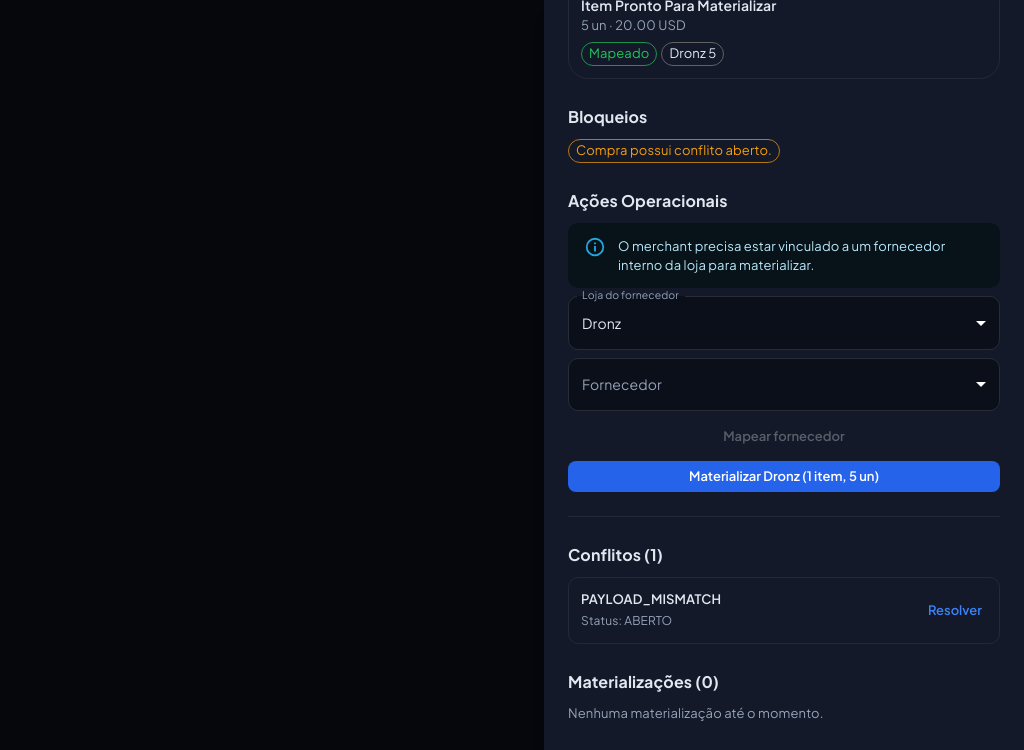
Test: Regressão — mapping merchant/fornecedor no drawer › salva o vínculo com loja, fornecedor, idempotência e invalida a compra
(page scrolled)
Click the dropdown named "Fornecedor".
click(784, 384)  # box [568, 358, 1000, 411]
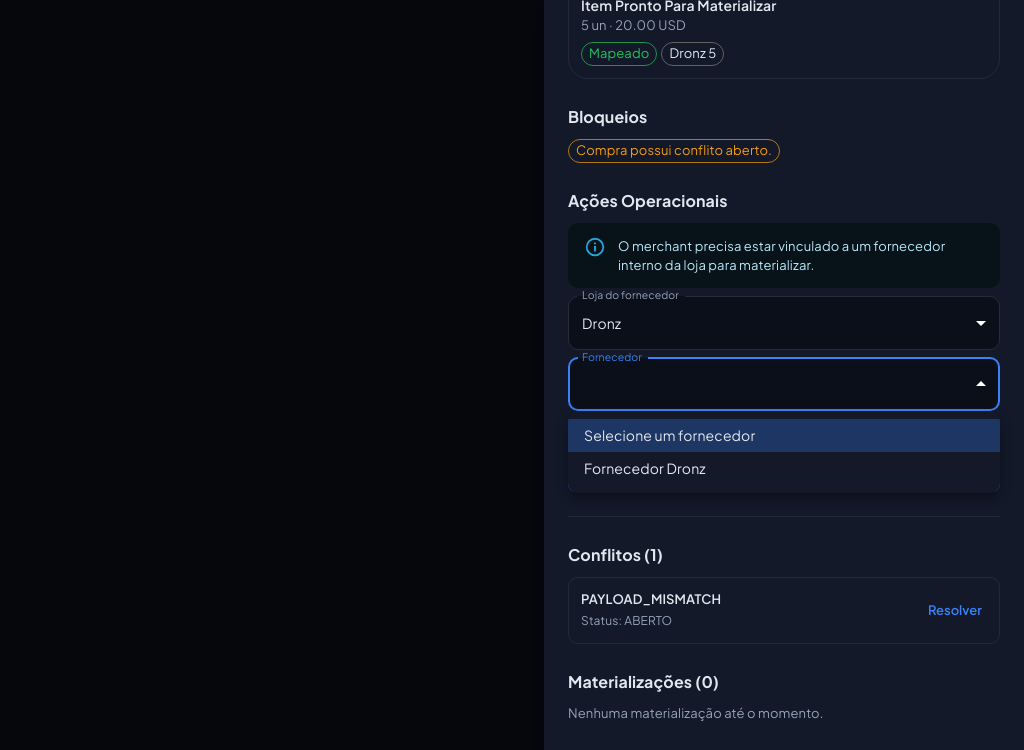
Click the option "Fornecedor Dronz".
click(645, 468)  # box [584, 459, 706, 477]
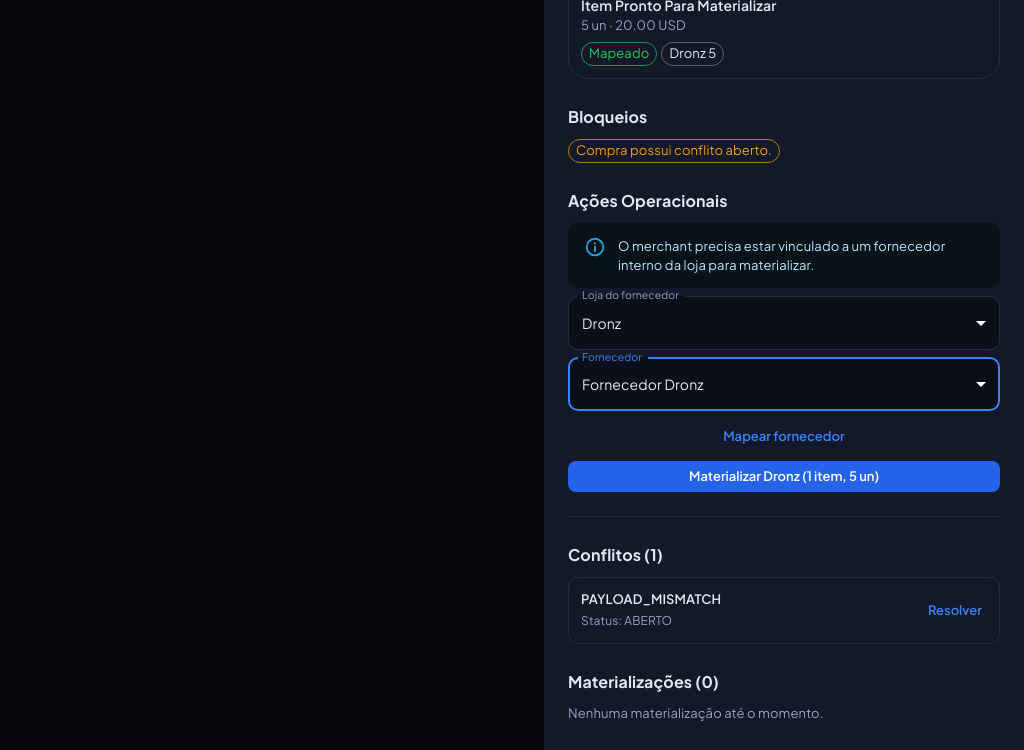
Click the button "Mapear fornecedor".
click(784, 436)  # box [568, 419, 1000, 453]
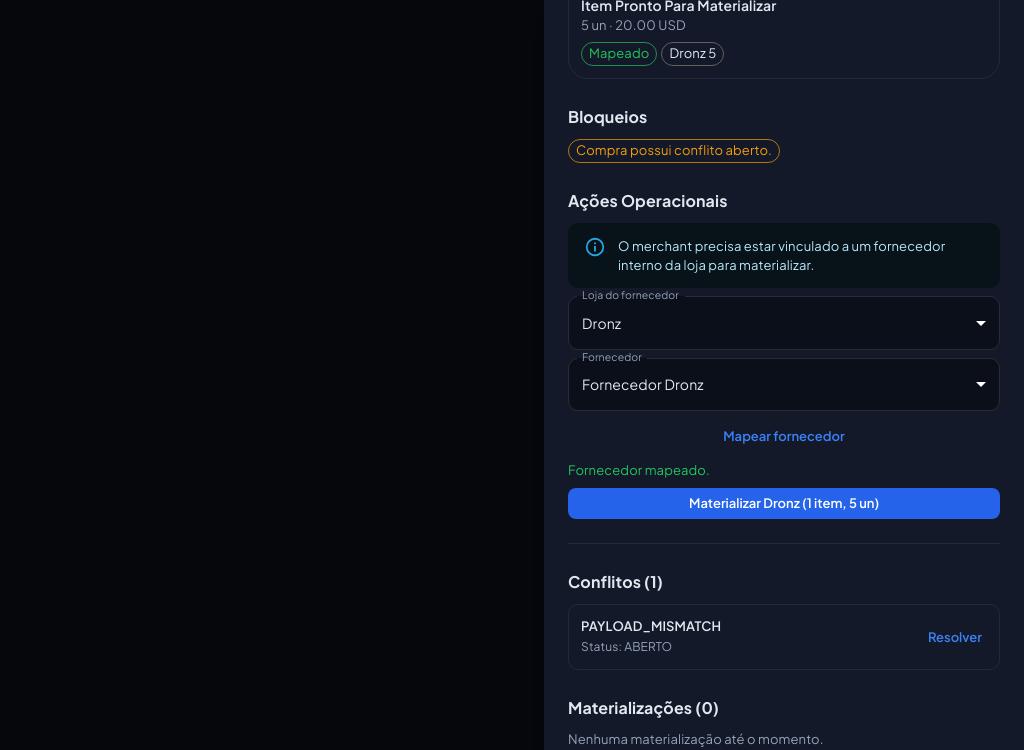
Check: the text "Fornecedor mapeado." is shown, box [568, 462, 710, 478]
